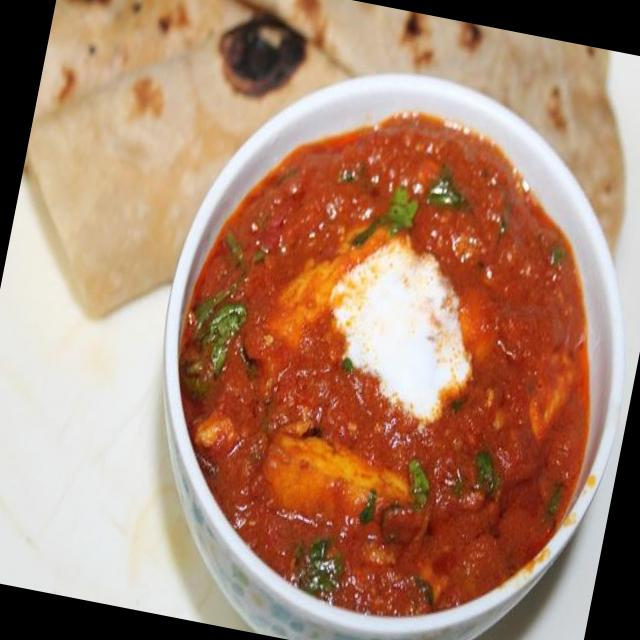roti: (5, 0, 248, 295)
